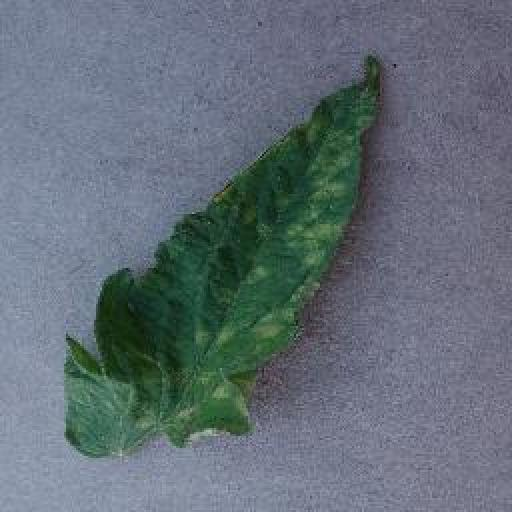disease_tomato: (62, 54, 385, 458)
